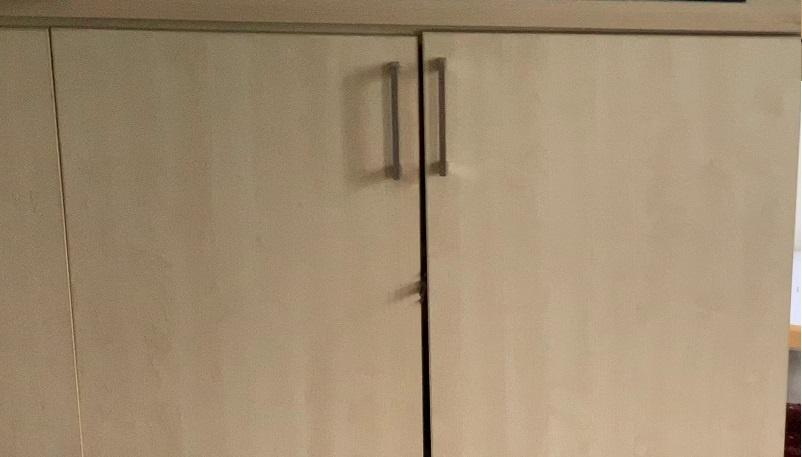cabinet_door: (424, 29, 786, 457), (63, 34, 422, 457)
handle: (370, 58, 408, 186), (428, 56, 457, 179)
